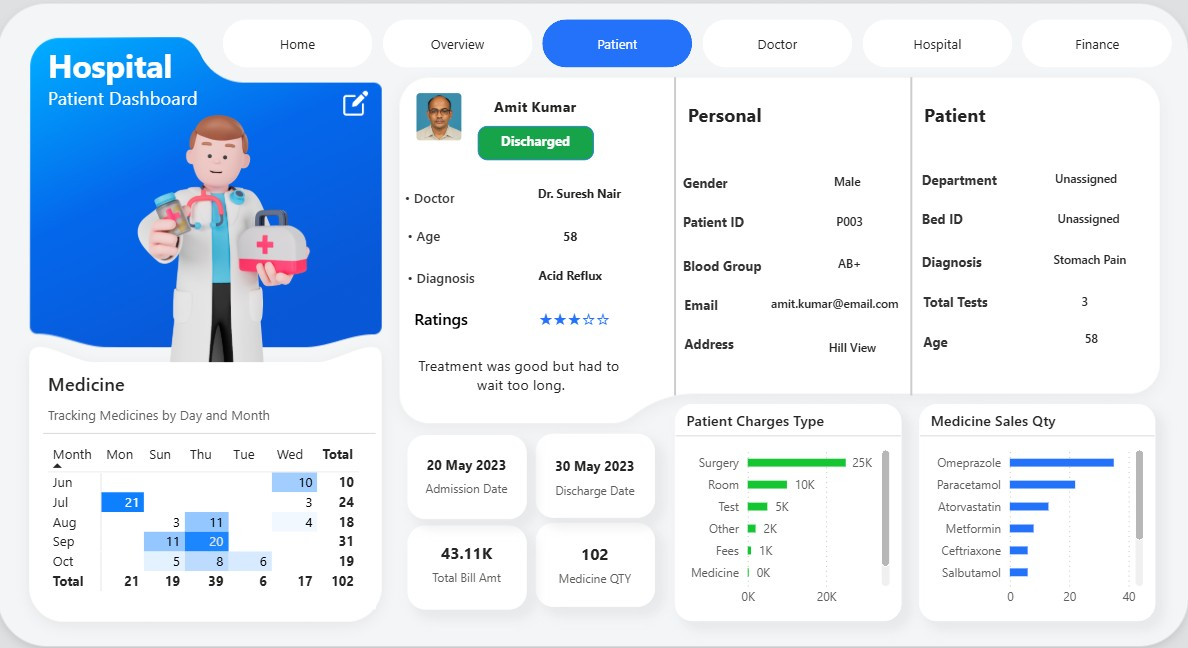

The dashboard page shown, as its layout file describes it:
{"tool":"powerbi","page":{"name":"Patient","canvas":[1280,720],"ordinal":2},"visuals":[{"type":"shape","box":[580.6,558.4,121,85],"z":0},{"type":"shape","box":[580.6,467.2,121,85],"z":1000},{"type":"shape","box":[450.8,560.1,121,85],"z":2000},{"type":"shape","box":[450.8,468.8,121,85],"z":3000},{"type":"image","box":[118.3,120,280,275],"z":4000},{"type":"textbox","box":[81.7,66.7,165,78.3],"z":5000},{"type":"image","box":[370,120,56.7,25],"z":6000},{"type":"pivotTable","title":"Medicine","fields":{"Columns":["Calendar.Day"],"Rows":["Calendar.Month"],"Values":["Sum(medicine_patient.qty)"]},"box":[81.9,405,336.9,240.6],"z":7000},{"type":"clusteredBarChart","title":"Medicine Sales Qty","fields":{"Y":["Sum(medicine_patient.qty)"],"Category":["medical_stock_info.name"]},"box":[969.4,437.5,239.3,220],"z":8000},{"type":"clusteredBarChart","title":"Patient  Charges Type","fields":{"Category":["Bills.Charges_Type"],"Y":["Sum(Bills.Value)"]},"box":[721.9,437.5,229.7,220.1],"z":9000},{"type":"card","fields":{"Values":["_Measures.Total_Bill_Amt"]},"box":[461.2,563.8,100,70],"z":10000},{"type":"card","fields":{"Values":["_Measures.Total_Med_Sale_QTY"]},"box":[590,565,100,68.8],"z":11000},{"type":"card","fields":{"Values":["Min(patient_info.patient_admission_date)"]},"box":[461.2,475,100,70],"z":12000},{"type":"card","fields":{"Values":["_Measures.Discharge Display"]},"box":[590.1,475.6,100.2,70],"z":13000},{"type":"cardVisual","fields":{"Data":["Min(patient_info.patient_Img)"]},"box":[451.1,111.4,69.6,72.4],"z":14000},{"type":"card","fields":{"Values":["Min(patient_info.patient_name)"]},"box":[521.2,120,118.8,36.2],"z":15000},{"type":"card","fields":{"Values":["Min(patient_info.patient_status)"]},"box":[522.5,156.2,117.5,35],"z":16000},{"type":"shape","box":[448.8,207.5,106.2,41.2],"z":17000},{"type":"shape","box":[451.2,246.2,98.8,42.5],"z":18000},{"type":"shape","box":[451.2,288.8,96.2,42.5],"z":19000},{"type":"card","fields":{"Values":["Min(patient_info.doctor_name)"]},"box":[553.8,205,142.5,43.8],"z":20000},{"type":"card","fields":{"Values":["Sum(patient_info.patient_age)"]},"box":[555,246.2,121.2,48.8],"z":21000},{"type":"card","fields":{"Values":["Min(appointment.diagnosis)"]},"box":[555,285,121.2,50],"z":22000},{"type":"card","fields":{"Values":["_Measures.Sum of satisfaction_rating star rating"]},"box":[561.2,335,118.8,36.2],"z":23000},{"type":"shape","box":[457.5,331.2,101.2,40],"z":24000},{"type":"card","fields":{"Values":["_Measures.Review Display"]},"box":[455,373.8,221.2,68.8],"z":25000},{"type":"shape","box":[696.2,106.2,52.5,322.5],"z":26000},{"type":"shape","box":[935,106.2,52.5,322.5],"z":27000},{"type":"shape","box":[730,193.1,106.2,41.2],"z":28000},{"type":"shape","box":[730,234.4,98.8,38.8],"z":29000},{"type":"shape","box":[730,275.6,96.2,42.5],"z":30000},{"type":"card","fields":{"Values":["Min(patient_info.patient_gender)"]},"box":[831.2,192.5,130,43.8],"z":31000},{"type":"card","fields":{"Values":["Min(patient_info.patient_id)"]},"box":[837.5,236.9,121.2,36.2],"z":32000},{"type":"card","fields":{"Values":["Min(patient_info.patient_blood_group)"]},"box":[838.8,275.6,121.2,42.5],"z":33000},{"type":"shape","box":[731.2,315.6,106.2,42.5],"z":34000},{"type":"shape","box":[731.2,355.6,98.8,42.5],"z":35000},{"type":"card","fields":{"Values":["Min(patient_info.patient_email)"]},"box":[806.4,313.3,154.3,49.3],"z":36000},{"type":"card","fields":{"Values":["Min(patient_info.patient_address)"]},"box":[839.8,362.6,120.9,41.4],"z":37000},{"type":"shape","box":[972.4,190.1,106.2,41.2],"z":38000},{"type":"shape","box":[972.4,231.4,98.8,38.8],"z":39000},{"type":"shape","box":[972.4,272.6,96.2,42.5],"z":40000},{"type":"card","fields":{"Values":["_Measures.Dept Display"]},"box":[1073.7,190.1,130,43.8],"z":41000},{"type":"card","fields":{"Values":["_Measures.Bed Display"]},"box":[1079.9,233.9,121.2,36.2],"z":42000},{"type":"card","fields":{"Values":["Min(appointment.reason)"]},"box":[1081.2,272.6,121.2,42.5],"z":43000},{"type":"shape","box":[973.7,312.6,106.2,42.5],"z":44000},{"type":"shape","box":[973.7,352.6,98.8,42.5],"z":45000},{"type":"card","fields":{"Values":["Count(patient_tests.patient_test_id)"]},"box":[1073.6,310.2,127.2,50.9],"z":46000},{"type":"card","fields":{"Values":["Min(patient_info.patient_age)"]},"box":[1082.4,352.6,121.2,42.5],"z":47000},{"type":"textbox","box":[730,127.5,228.8,41.2],"z":48000},{"type":"textbox","box":[970,127.5,228.8,41.2],"z":49000},{"type":"pageNavigator","box":[263.9,47.9,966.7,49.2],"z":51000}]}

Visuals, with their boxes on the page's 1280x720 design canvas (x1, y1, x2, y2). These are canvas units, not pixel positions in the 1188x648 screenshot, which may show the page scaled, cropped or inside an application window:
shape: box(581, 558, 702, 643)
shape: box(581, 467, 702, 552)
shape: box(451, 560, 572, 645)
shape: box(451, 469, 572, 554)
image: box(118, 120, 398, 395)
textbox: box(82, 67, 247, 145)
image: box(370, 120, 427, 145)
"Medicine" pivotTable: box(82, 405, 419, 646)
"Medicine Sales Qty" clusteredBarChart: box(969, 438, 1209, 658)
"Patient  Charges Type" clusteredBarChart: box(722, 438, 952, 658)
card - _Measures.Total_Bill_Amt: box(461, 564, 561, 634)
card - _Measures.Total_Med_Sale_QTY: box(590, 565, 690, 634)
card - Min(patient_info.patient_admission_date): box(461, 475, 561, 545)
card - _Measures.Discharge Display: box(590, 476, 690, 546)
cardVisual - Min(patient_info.patient_Img): box(451, 111, 521, 184)
card - Min(patient_info.patient_name): box(521, 120, 640, 156)
card - Min(patient_info.patient_status): box(522, 156, 640, 191)
shape: box(449, 208, 555, 249)
shape: box(451, 246, 550, 289)
shape: box(451, 289, 547, 331)
card - Min(patient_info.doctor_name): box(554, 205, 696, 249)
card - Sum(patient_info.patient_age): box(555, 246, 676, 295)
card - Min(appointment.diagnosis): box(555, 285, 676, 335)
card - _Measures.Sum of satisfaction_rating star rating: box(561, 335, 680, 371)
shape: box(458, 331, 559, 371)
card - _Measures.Review Display: box(455, 374, 676, 443)
shape: box(696, 106, 749, 429)
shape: box(935, 106, 988, 429)
shape: box(730, 193, 836, 234)
shape: box(730, 234, 829, 273)
shape: box(730, 276, 826, 318)
card - Min(patient_info.patient_gender): box(831, 192, 961, 236)
card - Min(patient_info.patient_id): box(838, 237, 959, 273)
card - Min(patient_info.patient_blood_group): box(839, 276, 960, 318)
shape: box(731, 316, 837, 358)
shape: box(731, 356, 830, 398)
card - Min(patient_info.patient_email): box(806, 313, 961, 363)
card - Min(patient_info.patient_address): box(840, 363, 961, 404)
shape: box(972, 190, 1079, 231)
shape: box(972, 231, 1071, 270)
shape: box(972, 273, 1069, 315)
card - _Measures.Dept Display: box(1074, 190, 1204, 234)
card - _Measures.Bed Display: box(1080, 234, 1201, 270)
card - Min(appointment.reason): box(1081, 273, 1202, 315)
shape: box(974, 313, 1080, 355)
shape: box(974, 353, 1072, 395)
card - Count(patient_tests.patient_test_id): box(1074, 310, 1201, 361)
card - Min(patient_info.patient_age): box(1082, 353, 1204, 395)
textbox: box(730, 128, 959, 169)
textbox: box(970, 128, 1199, 169)
pageNavigator: box(264, 48, 1231, 97)
